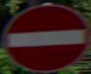No entry: (7, 7, 89, 66)
